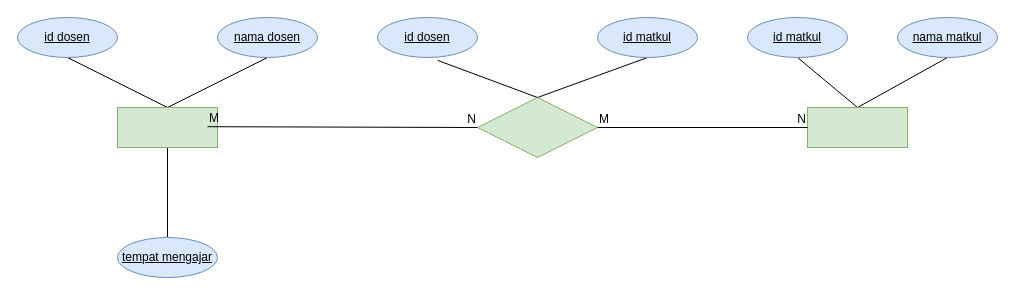
This 1015x295 diagram has some shape labels left out. Here are the shapes that lost their labels. From the top down, the box of each, then its label:
(116, 106, 218, 148): dosen
(476, 96, 598, 158): mengajar
(806, 106, 908, 148): matakuliah
